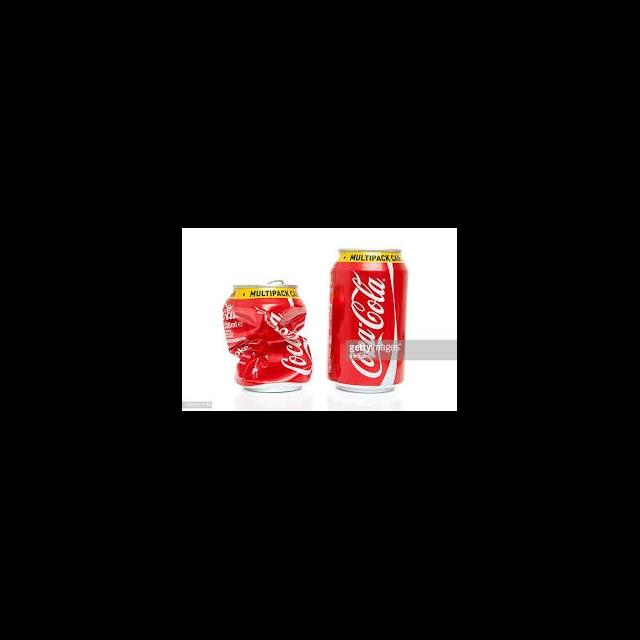metal: (320, 236, 416, 400), (216, 270, 318, 402)
